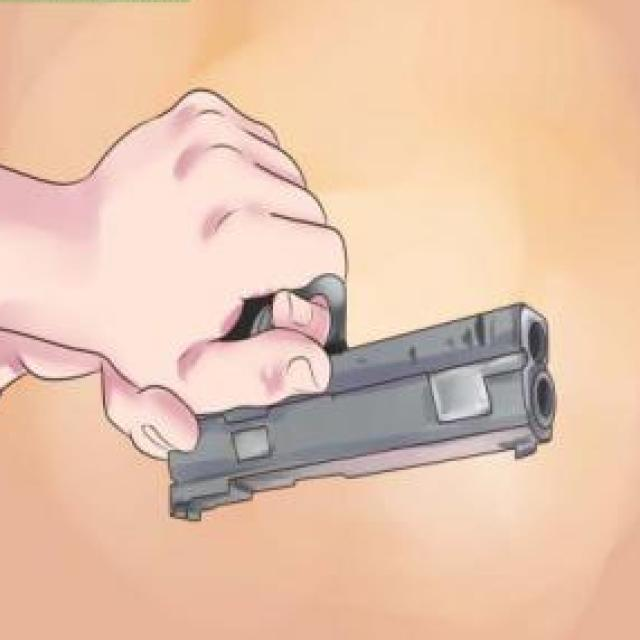pistol: (167, 271, 557, 521)
